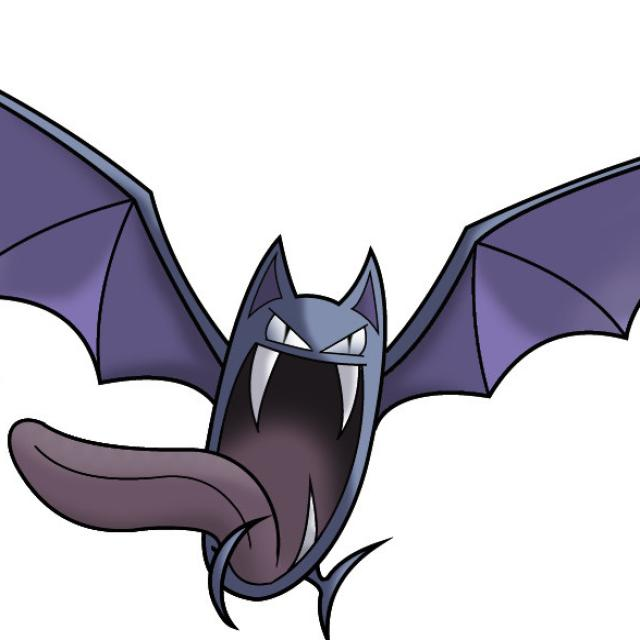Golbat: (121, 173, 495, 614)
